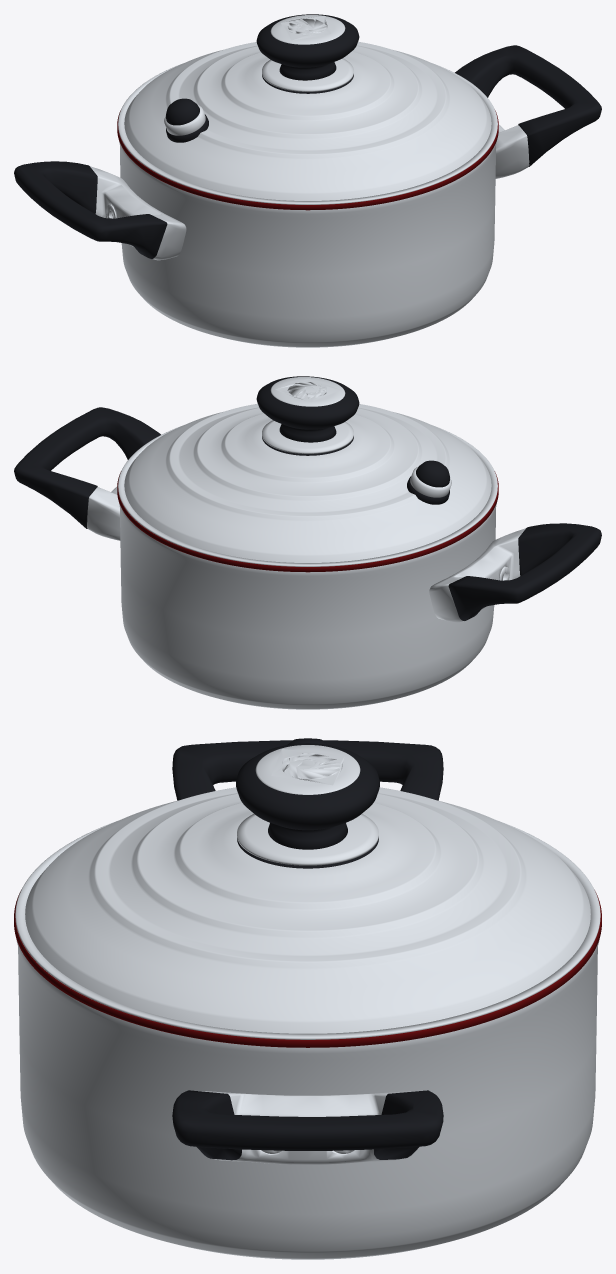
File: olla-3-cuartos.glb
3 renders of one model, top to bottom at view 1: azimuth 30°, elevation 25°; view 2: azimuth 150°, elevation 25°; view 3: azimuth 270°, elevation 25°, orthographic. The views are drawn at different scales.
Parts seen in each view (by area): view 1: NOVEL · Cuerpo ajustable con interior, NOVEL · Tapa mediana de perfil limpio, NOVEL · Asa_HIPO_01.001, NOVEL · Asa_HIPO_01, NOVEL · Pomo cerrado redondeado, NOVEL · Filete de acero del borde, NOVEL · baseAsa_HIPO_01.001, NOVEL · Aro rojo asentado, NOVEL · Base cromada del pomo, NOVEL · baseAsa_HIPO_01, NOVEL · Placa superior del pomo, NOVEL · Emblema original en relieve bajo (+2 smaller); view 2: NOVEL · Cuerpo ajustable con interior, NOVEL · Tapa mediana de perfil limpio, NOVEL · Asa_HIPO_01.001, NOVEL · Asa_HIPO_01, NOVEL · Pomo cerrado redondeado, NOVEL · Filete de acero del borde, NOVEL · baseAsa_HIPO_01.001, NOVEL · Aro rojo asentado, NOVEL · Base cromada del pomo, NOVEL · baseAsa_HIPO_01, NOVEL · Placa superior del pomo, NOVEL · Emblema original en relieve bajo (+2 smaller); view 3: NOVEL · Cuerpo ajustable con interior, NOVEL · Tapa mediana de perfil limpio, NOVEL · Asa_HIPO_01, NOVEL · Asa_HIPO_01.001, NOVEL · Pomo cerrado redondeado, NOVEL · Filete de acero del borde, NOVEL · Aro rojo asentado, NOVEL · baseAsa_HIPO_01, NOVEL · Base cromada del pomo, NOVEL · Placa superior del pomo, NOVEL · Emblema original en relieve bajo.
Part boxes in pixels (x1,y1,x2,y2): NOVEL · Cuerpo ajustable con interior: (119,141,496,347); NOVEL · Tapa mediana de perfil limpio: (124,41,491,200); NOVEL · Asa_HIPO_01.001: (14,161,167,258); NOVEL · Asa_HIPO_01: (455,45,601,166); NOVEL · Pomo cerrado redondeado: (256,14,359,80); NOVEL · Filete de acero del borde: (118,63,497,204); NOVEL · baseAsa_HIPO_01.001: (90,166,186,260); NOVEL · Aro rojo asentado: (117,110,498,210); NOVEL · Base cromada del pomo: (262,58,353,91); NOVEL · baseAsa_HIPO_01: (495,124,529,178); NOVEL · Placa superior del pomo: (270,15,345,44); NOVEL · Emblema original en relieve bajo: (281,15,331,40); NOVEL · Cuerpo ajustable con interior: (119,503,496,709); NOVEL · Tapa mediana de perfil limpio: (124,403,491,562); NOVEL · Asa_HIPO_01.001: (448,523,601,620); NOVEL · Asa_HIPO_01: (14,407,160,528); NOVEL · Pomo cerrado redondeado: (256,376,359,442); NOVEL · Filete de acero del borde: (118,425,497,566); NOVEL · baseAsa_HIPO_01.001: (429,528,525,622); NOVEL · Aro rojo asentado: (117,471,498,572); NOVEL · Base cromada del pomo: (262,420,353,453); NOVEL · baseAsa_HIPO_01: (87,486,120,540); NOVEL · Placa superior del pomo: (270,377,345,406); NOVEL · Emblema original en relieve bajo: (275,378,340,402); NOVEL · Cuerpo ajustable con interior: (16,939,599,1259); NOVEL · Tapa mediana de perfil limpio: (25,787,590,1033); NOVEL · Asa_HIPO_01: (172,1090,443,1160); NOVEL · Asa_HIPO_01.001: (172,740,443,800); NOVEL · Pomo cerrado redondeado: (236,743,379,849); NOVEL · Filete de acero del borde: (15,821,600,1039); NOVEL · Aro rojo asentado: (14,891,601,1047); NOVEL · baseAsa_HIPO_01: (198,1091,418,1164); NOVEL · Base cromada del pomo: (237,814,378,865); NOVEL · Placa superior del pomo: (255,745,360,794); NOVEL · Emblema original en relieve bajo: (271,749,344,785).
Size of the model in its own units: 0.3271 by 0.1521 by 0.2071.
